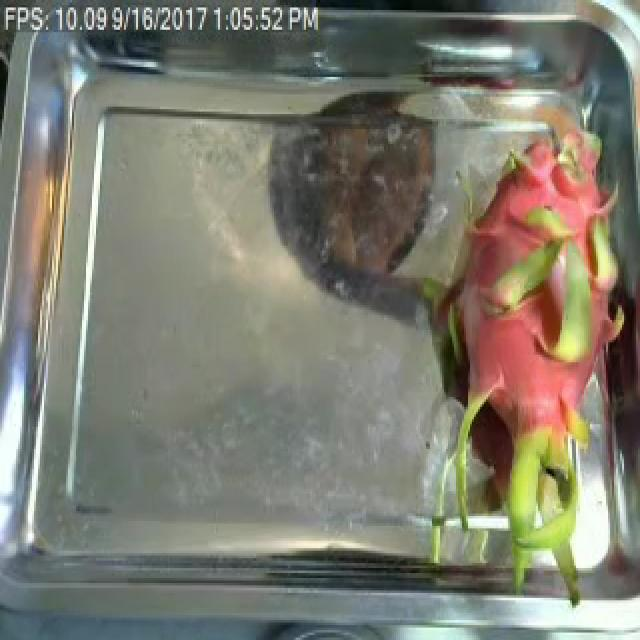fruit: (380, 168, 638, 602)
